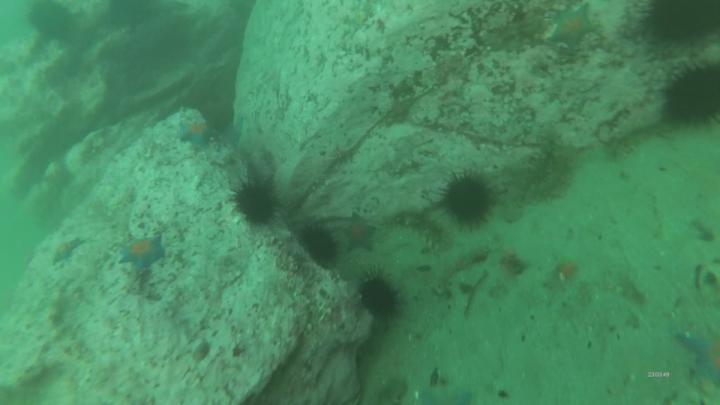echinus: (669, 64, 720, 130), (647, 1, 720, 47), (442, 176, 493, 229), (237, 187, 276, 225), (301, 227, 340, 263), (360, 277, 397, 314)
holothurian: (523, 125, 575, 200), (487, 169, 526, 222), (391, 213, 444, 251)
starfish: (682, 332, 720, 384), (548, 9, 596, 46), (121, 240, 167, 270), (343, 217, 376, 251), (180, 123, 218, 149), (53, 242, 83, 262)
